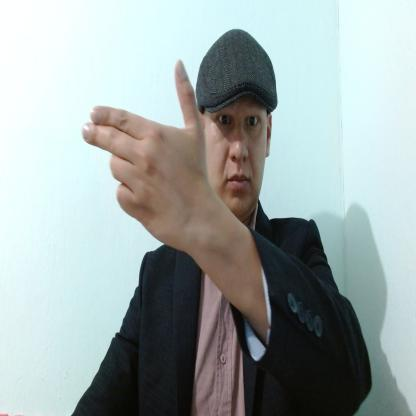H: (82, 57, 208, 246)
